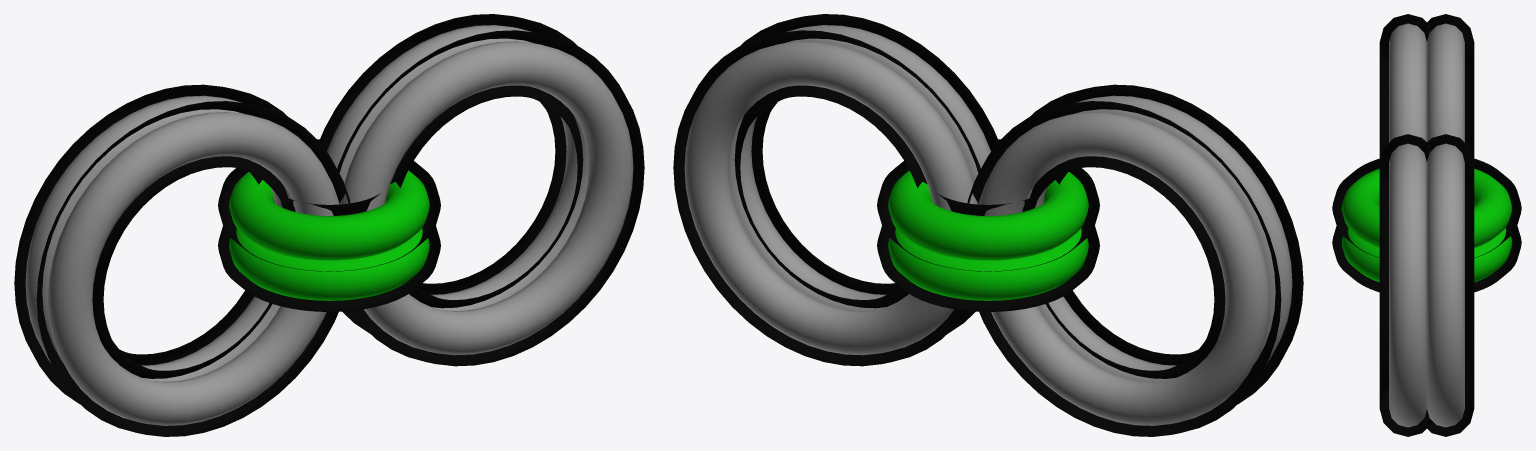
Rendered from japanese_8_in_2_step_03.glb.
3 renders of one model, left to right at view 1: azimuth 30°, elevation 25°; view 2: azimuth 150°, elevation 25°; view 3: azimuth 270°, elevation 25°, orthographic. The views are drawn at different scales.
Visible parts, largest first — view 1: Torus AR 6.024, Torus AR 6.032, Torus AR 6.019, Torus AR 6.027, Torus AR 3.042, Torus AR 3.041; view 2: Torus AR 6.019, Torus AR 6.027, Torus AR 6.024, Torus AR 6.032, Torus AR 3.042, Torus AR 3.041; view 3: Torus AR 6.027, Torus AR 6.032, Torus AR 3.042, Torus AR 6.019, Torus AR 6.024, Torus AR 3.041.
Part boxes in pixels (x1,y1,x2,y2): Torus AR 6.024: (36,101,350,436); Torus AR 6.032: (337,30,644,366); Torus AR 6.019: (14,84,291,404); Torus AR 6.027: (319,14,588,333); Torus AR 3.042: (218,139,440,271); Torus AR 3.041: (218,226,440,311); Torus AR 6.019: (967,101,1281,436); Torus AR 6.027: (673,30,980,366); Torus AR 6.024: (1026,84,1303,404); Torus AR 6.032: (729,14,998,333); Torus AR 3.042: (877,139,1099,271); Torus AR 3.041: (877,226,1099,311); Torus AR 6.027: (1421,134,1474,436); Torus AR 6.032: (1379,134,1432,436); Torus AR 3.042: (1332,158,1521,257); Torus AR 6.019: (1421,14,1474,161); Torus AR 6.024: (1379,14,1432,161); Torus AR 3.041: (1332,226,1521,292).
Bounding box in the file's own units: 6.2 × 3.2 × 2.
